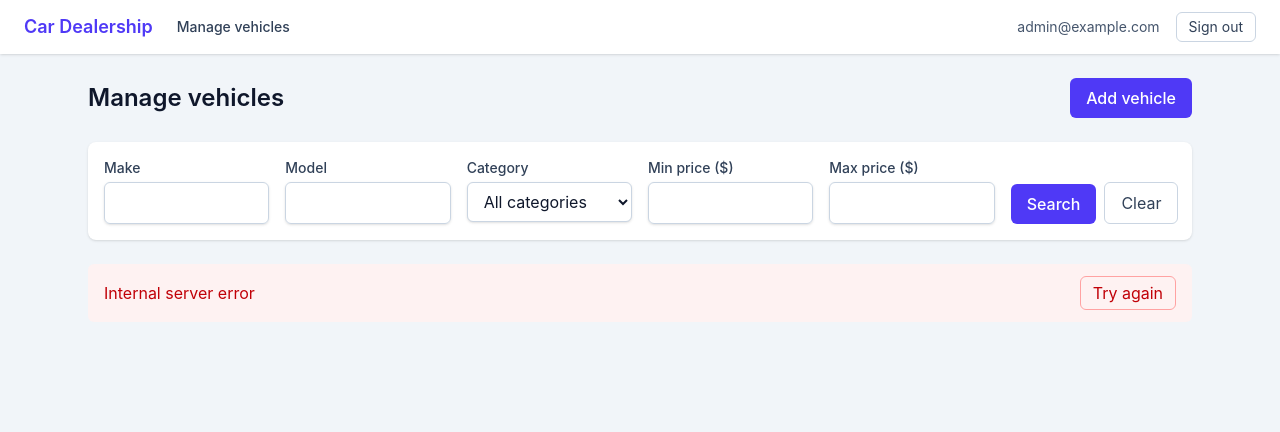
it: AdminCarsPage › shows the error with a retry button when loading fails
expect the message shows "Internal server error": met, box [104,283,255,303]
Step 1. Click the button "Try again" → click(1128, 293), box [1080,276,1176,310]
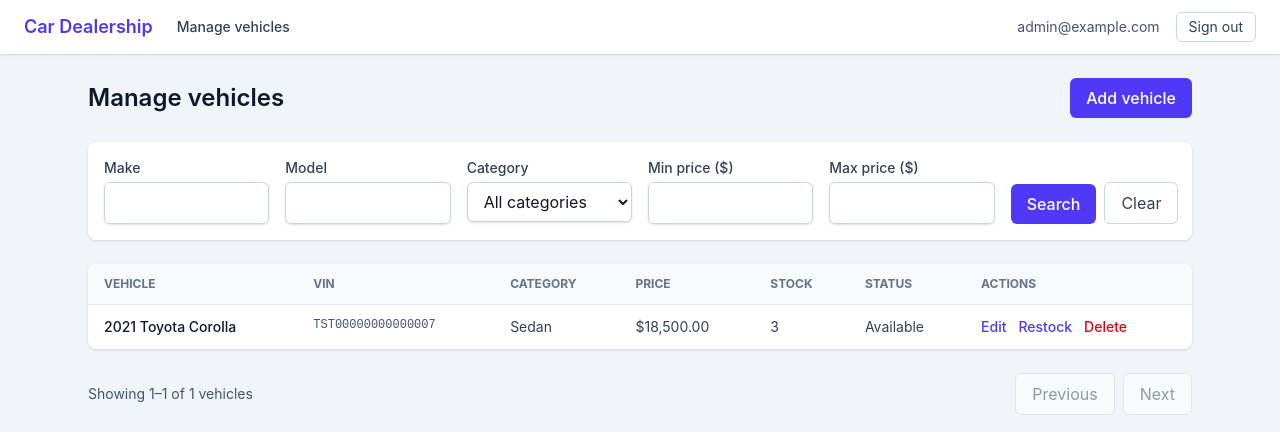
expect the row "2021 Toyota Corolla" is shown: met, box [88,304,1192,349]
